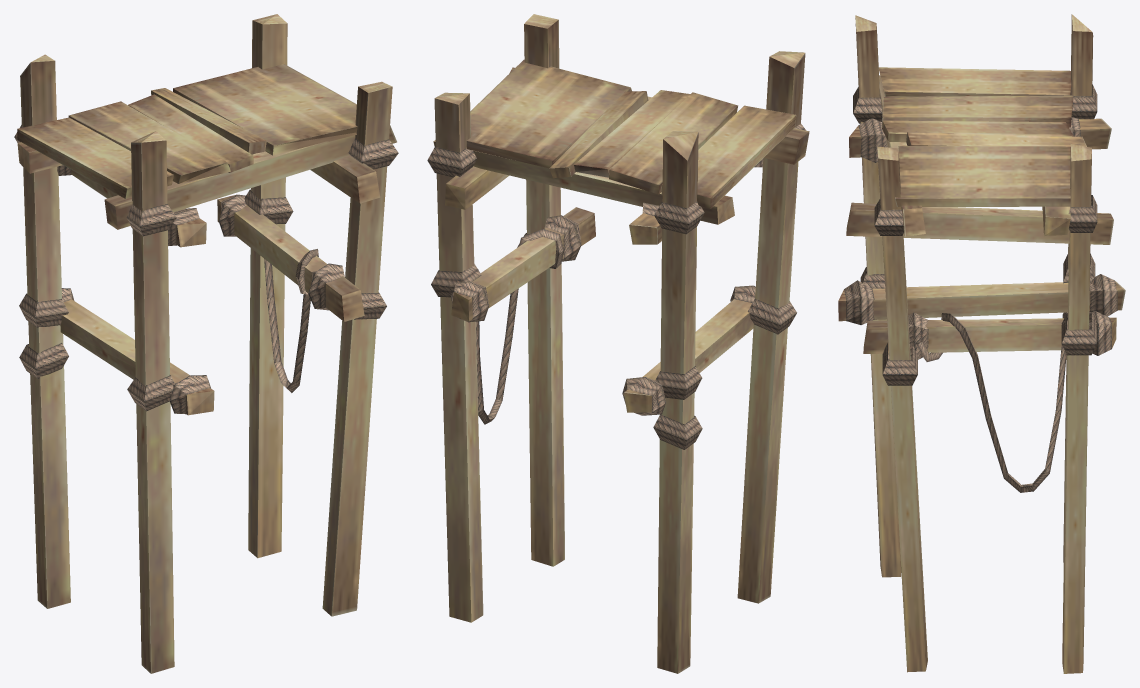
The model's file is C2SMSCAFFOLDINGAH.obj.
3 renders of one model, left to right at view 1: azimuth 30°, elevation 25°; view 2: azimuth 150°, elevation 25°; view 3: azimuth 270°, elevation 25°, orthographic.
Parts seen in each view (by area): view 1: Node 0; view 2: Node 0; view 3: Node 0.
Part boxes in pixels (left/top/right/bottom): Node 0: left=14, top=14, right=398, bottom=673; Node 0: left=427, top=14, right=809, bottom=673; Node 0: left=838, top=14, right=1125, bottom=673.
Bounding box in the file's own units: 6.44 × 11.16 × 5.38.
Materials: 1 (1 with a texture image).
